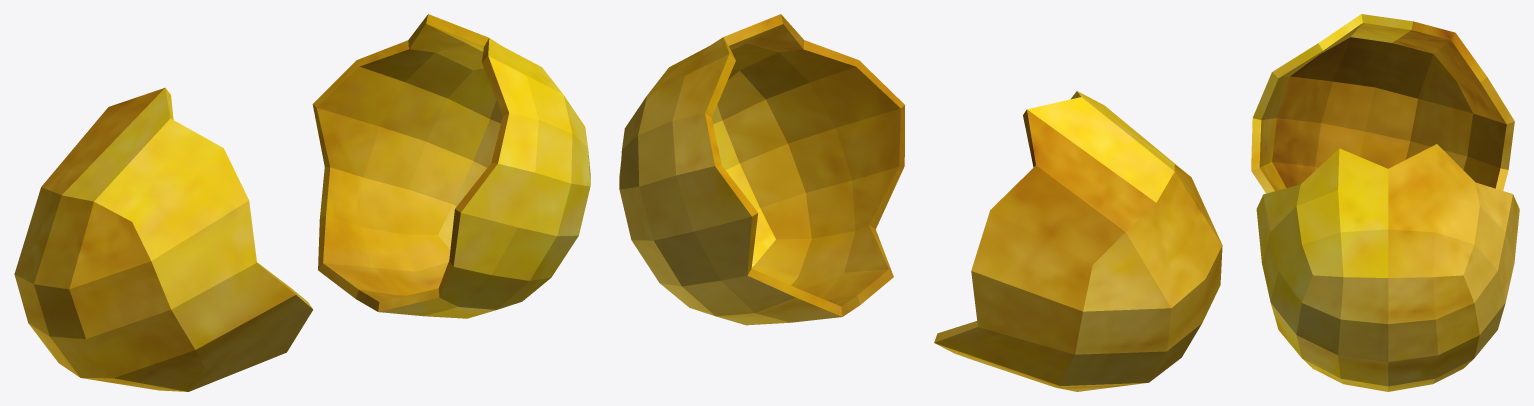
Rendered from OVO_QUEBRADO.fbx.
3 views of the same model, side by side, from view 1: azimuth 30°, elevation 25°; view 2: azimuth 150°, elevation 25°; view 3: azimuth 270°, elevation 25° (orthographic). The views are drawn at different scales.
Parts seen in each view (by area): view 1: Ovo, Ovo.001; view 2: Ovo, Ovo.001; view 3: Ovo, Ovo.001.
Part boxes in pixels (<box>): Ovo: <box>312,14,590,318</box>; Ovo.001: <box>14,88,313,391</box>; Ovo: <box>619,14,904,325</box>; Ovo.001: <box>934,91,1222,391</box>; Ovo: <box>1256,144,1519,391</box>; Ovo.001: <box>1251,14,1514,193</box>.
Bounding box in the file's own units: 370 × 177 × 179.
Materials: 1 (1 with a texture image).
